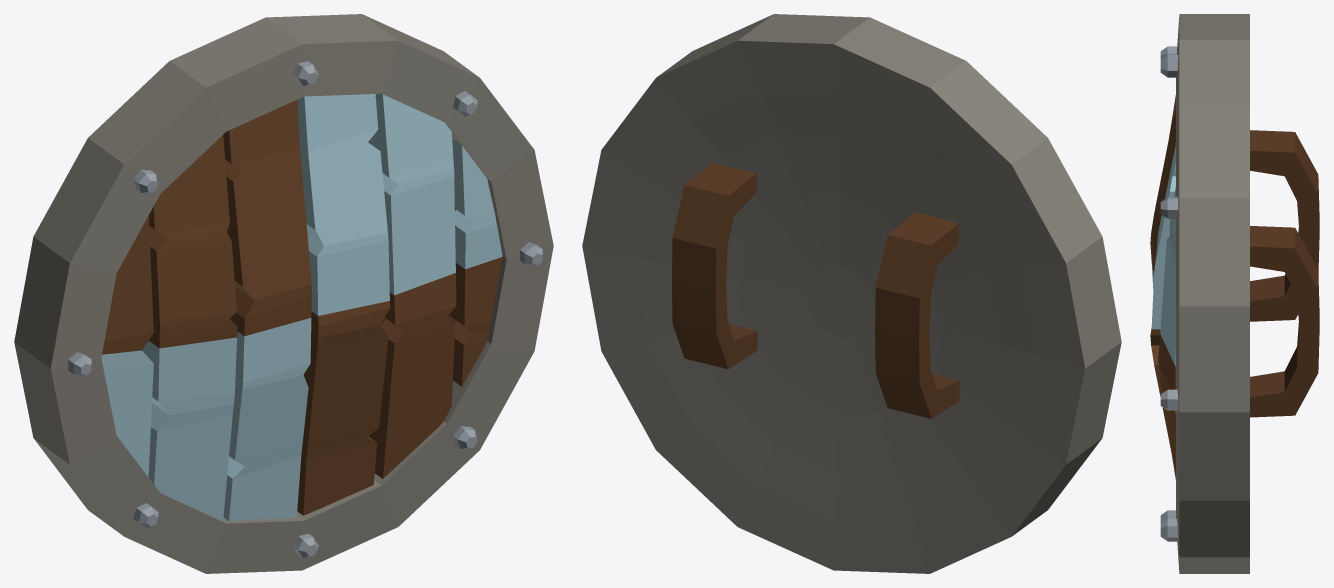
File: cc0-shield-round-lod0.glb
The picture shows the model from 3 angles, left to right: view 1: azimuth 30°, elevation 25°; view 2: azimuth 150°, elevation 25°; view 3: azimuth 270°, elevation 25°; orthographic projection. The views are drawn at different scales.
Visible parts, largest first — view 1: part_0; view 2: part_0; view 3: part_0.
Boxes of the visible parts, box(x1,y1,x2,y2) form: part_0: box(14, 14, 553, 573); part_0: box(582, 14, 1121, 573); part_0: box(1150, 14, 1319, 573).
Size of the model in its own units: 2 by 2 by 0.6037.
